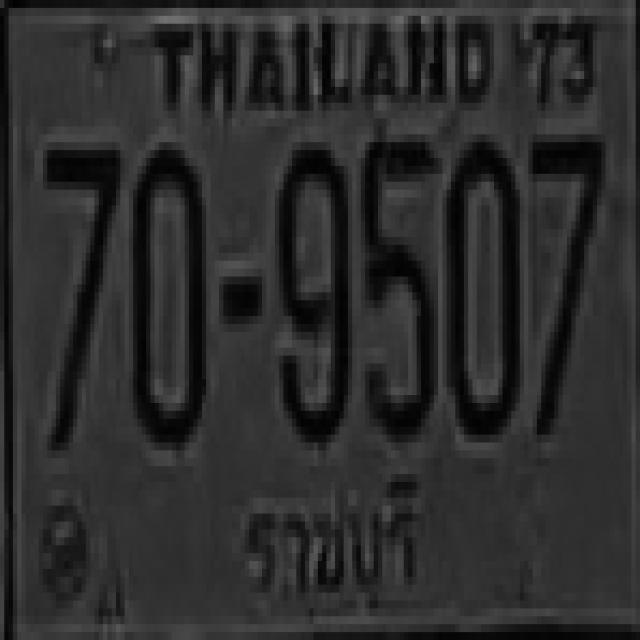0: (442, 134, 516, 434), (129, 142, 202, 442)
5: (361, 134, 434, 434)
7: (528, 130, 602, 430), (43, 142, 116, 442)
9: (275, 138, 348, 438)
Ratchaburi: (238, 470, 430, 627)
